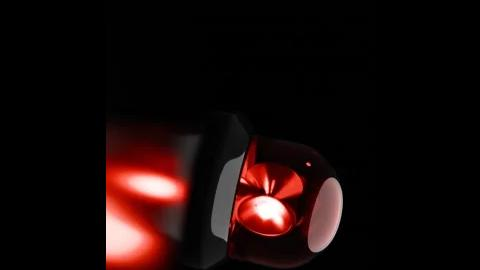controlled_fire: (238, 146, 347, 270)
